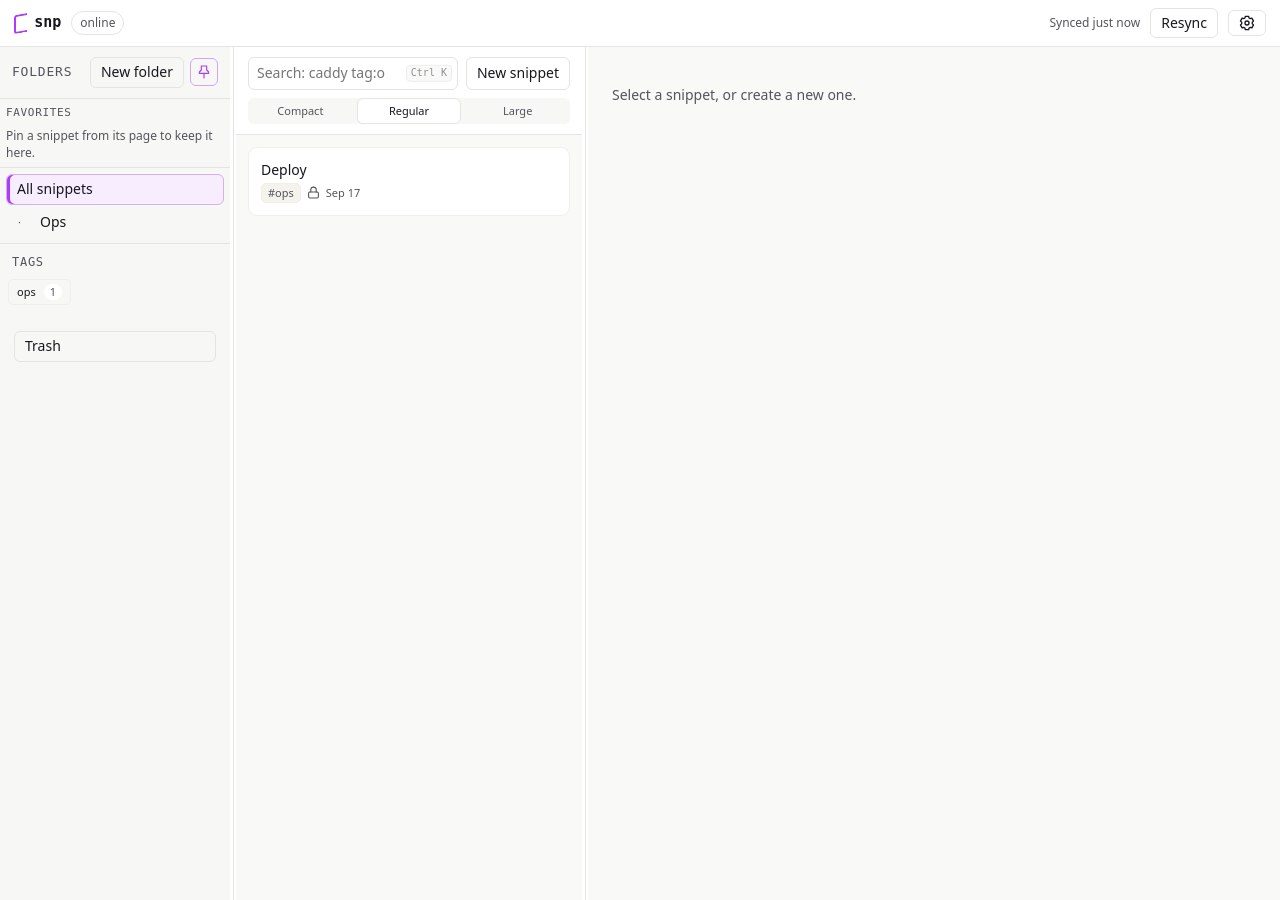
Scenario: sensitive detail lifecycle › reveals again after leaving the view and after sync
The image size is (1280, 900).
Step 1. Click the text "Deploy" → (284,170), box [261, 160, 307, 180]
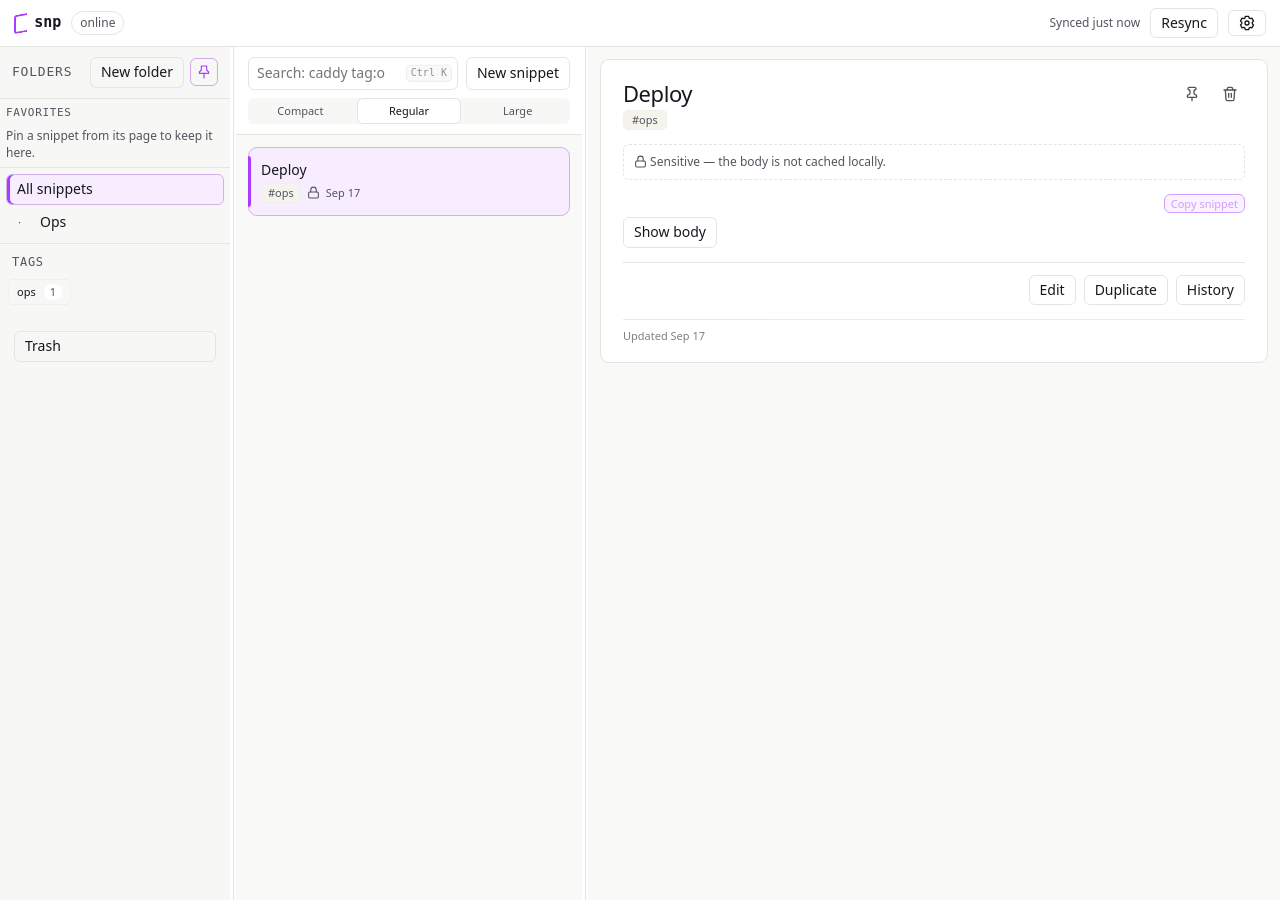
Step 2. Click the button "Show body" → (670,233), box [623, 218, 717, 248]
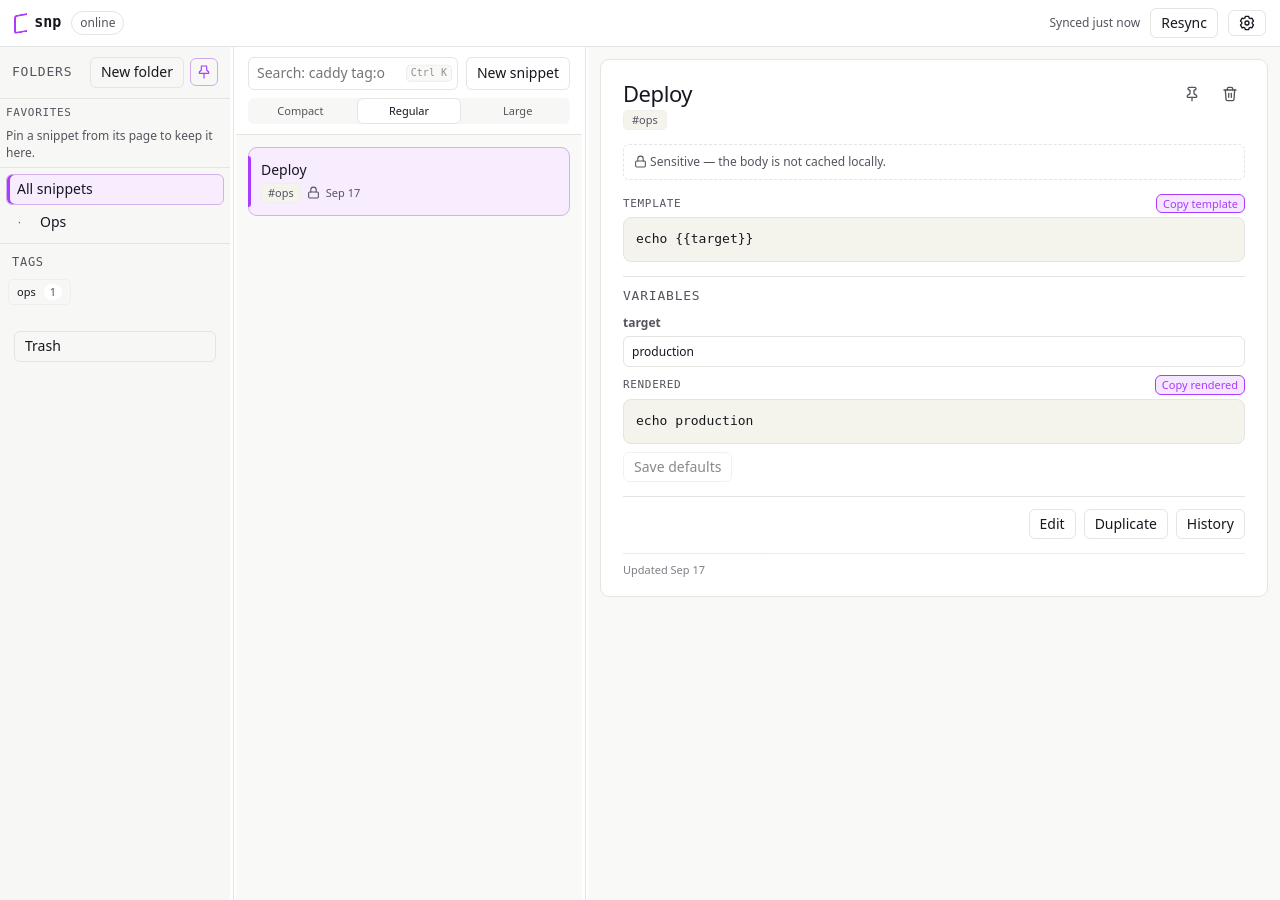
Now the field labelled "target" is shown, box [623, 336, 1245, 367]
Step 3. Click the button "Resync" → (1184,23), box [1150, 8, 1218, 38]
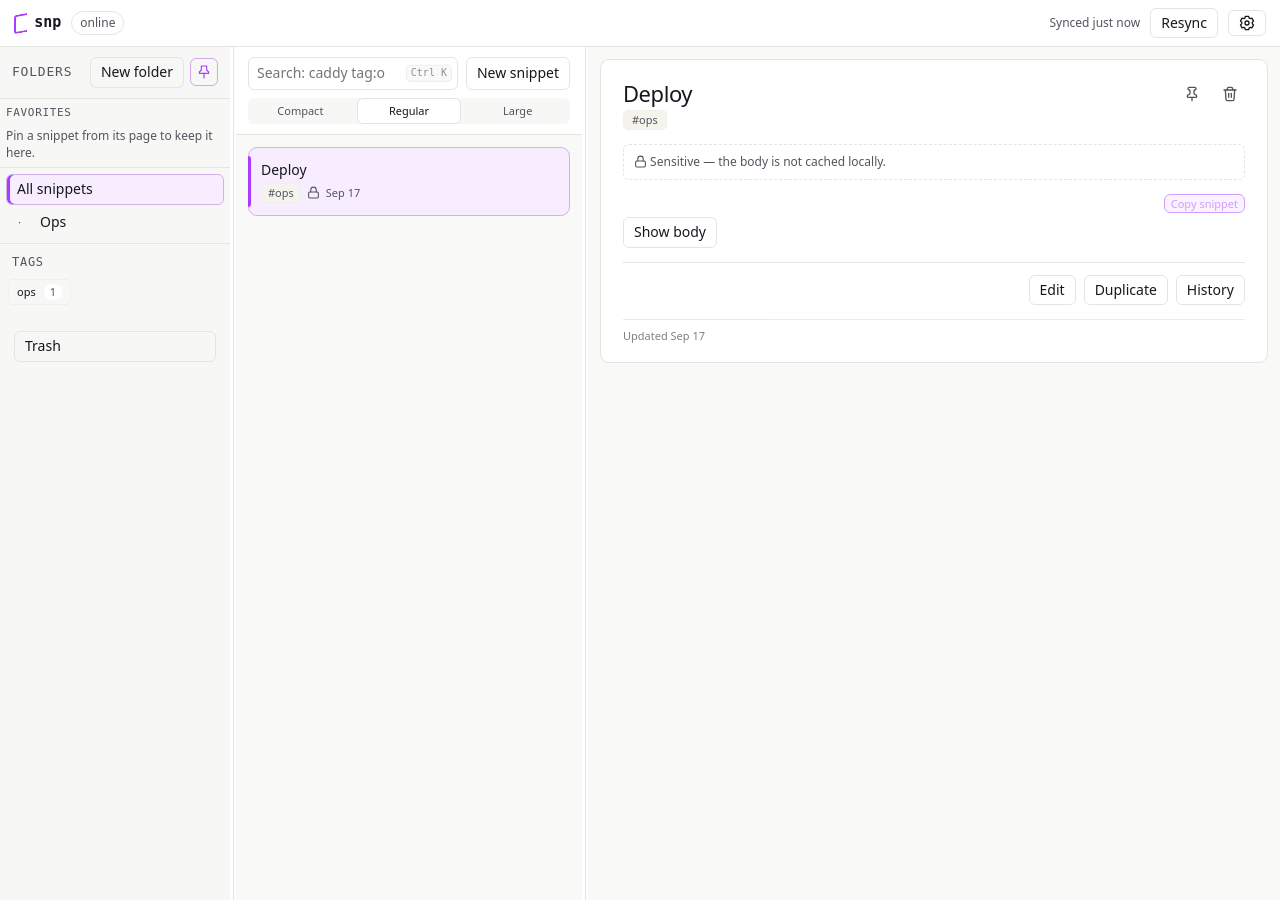
Now the button "Show body" is shown
Step 4. Click the button "Show body" → (670,233), box [623, 218, 717, 248]
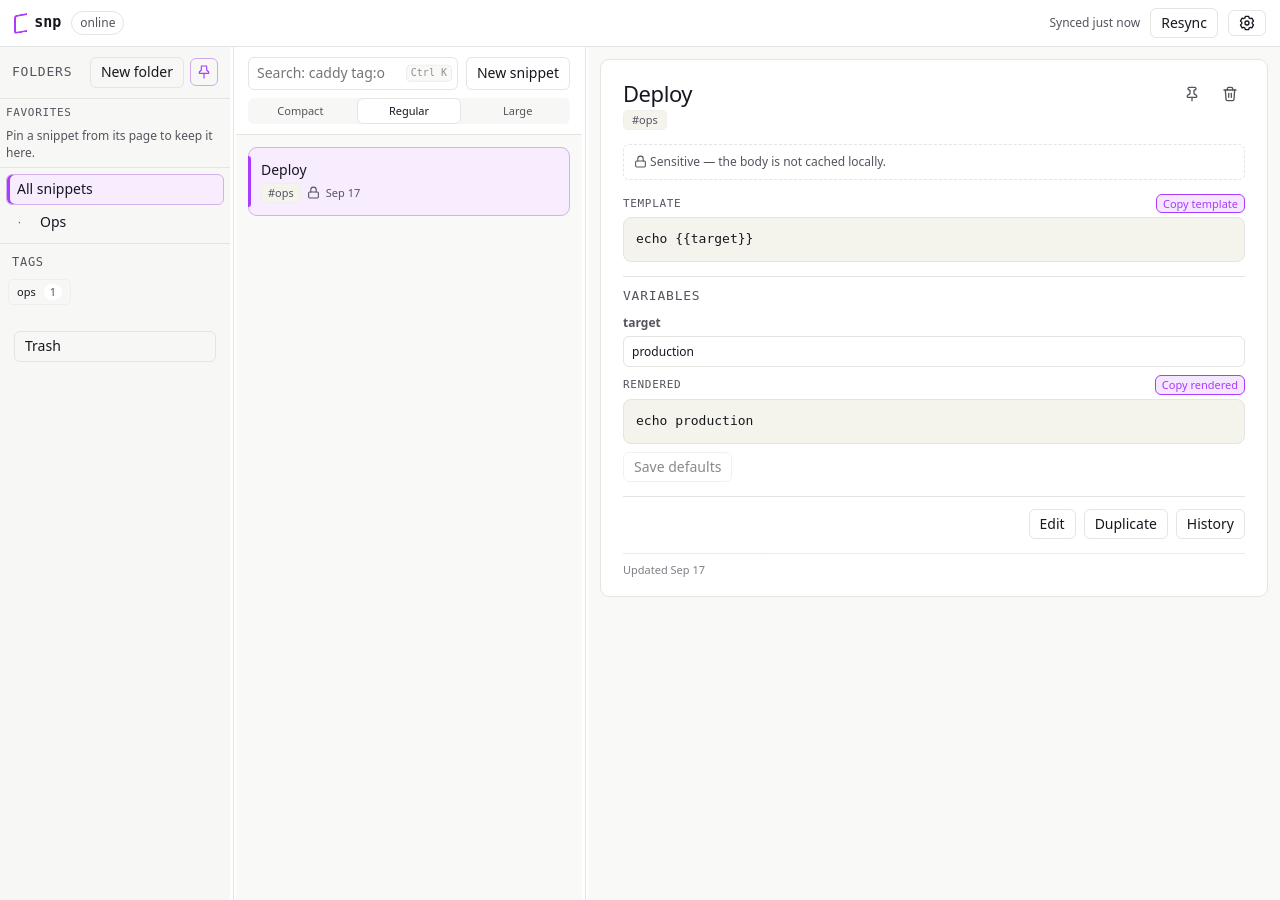
Now the field labelled "target" is shown, box [623, 336, 1245, 367]
Step 5. Click the button with class "new" → (518,73), box [466, 57, 570, 90]
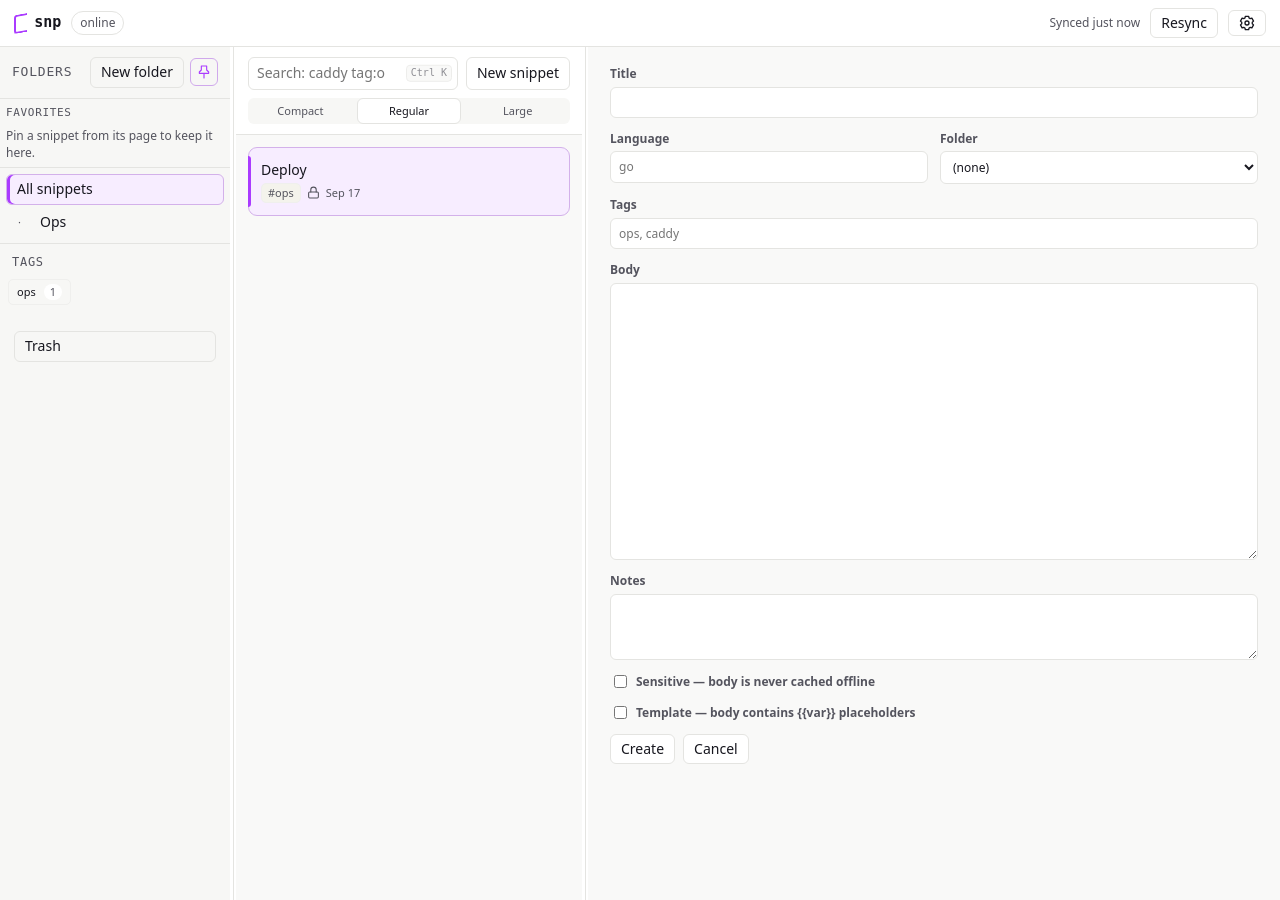
Step 6. Click the button "Cancel" → (716,749), box [683, 734, 749, 764]
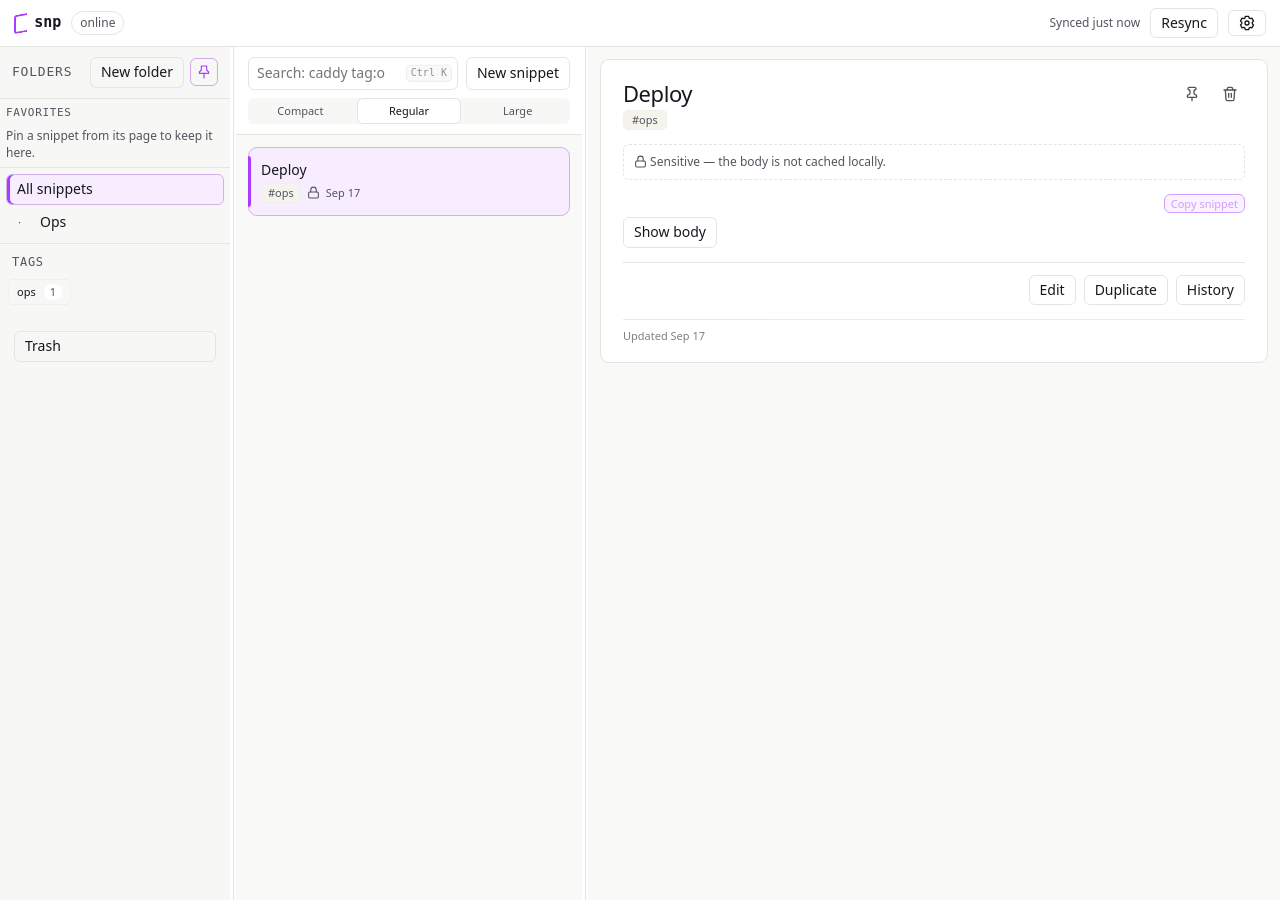
Now the button "Show body" is shown, box [623, 218, 717, 248]
